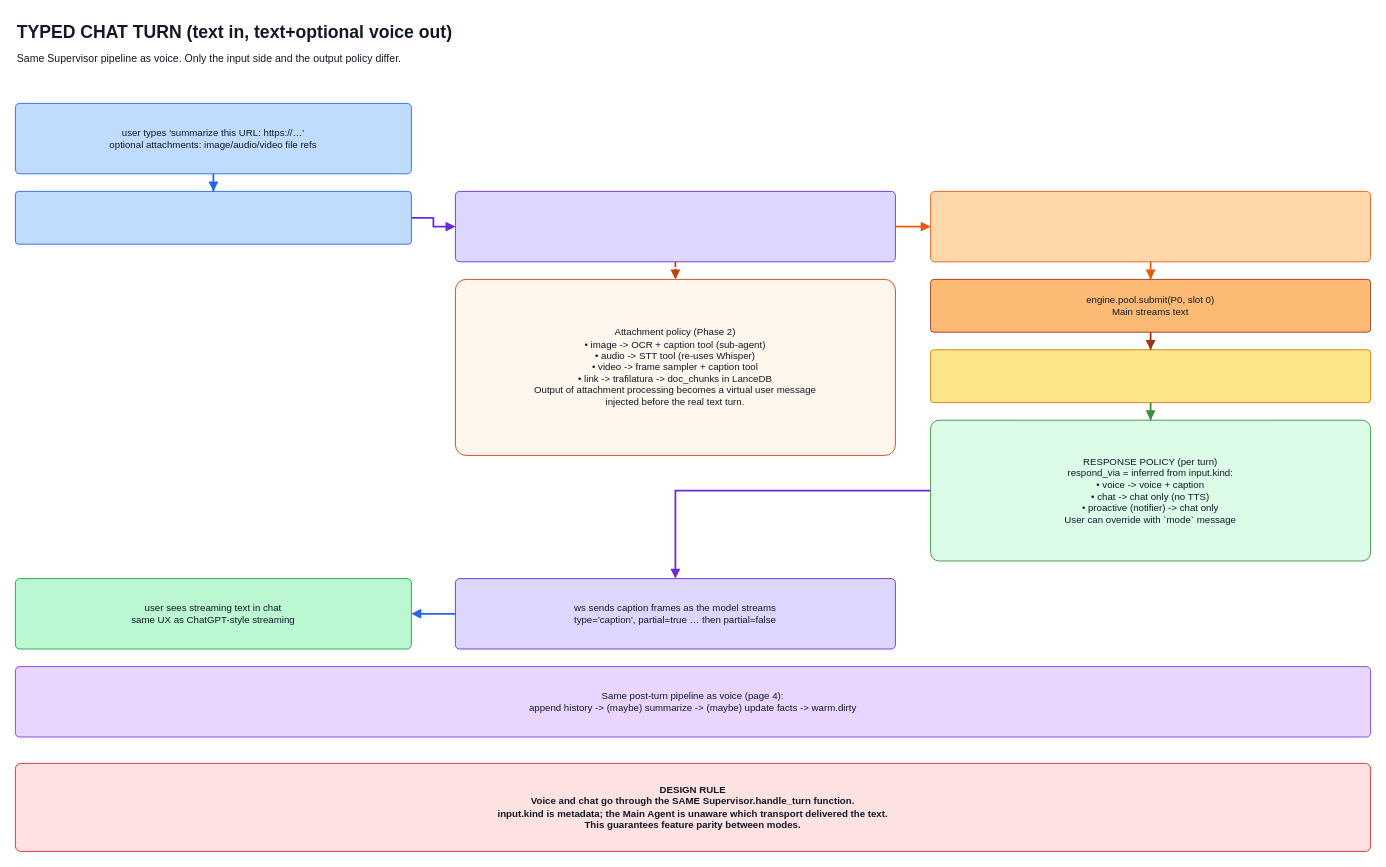
This 1386x867 diagram has some shape labels left out. The shapes that lost their labels are listed below. From the top down, each one's centre as x and y in pixels, then its label:
point 213,217: WS sends chat { text, attachments? }
point 675,226: Transport routes JSON Supervisor.handle_turn({kind:'chat', text, attachments})
point 1150,226: CONTEXT pack (same as voice turn) warm + task_board + history + chat_text
point 1150,376: directives parser [DELEGATE], [REMEMBER], [RECALL]
